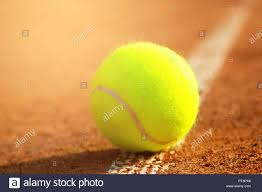tennis_ball: (90, 40, 200, 153)
